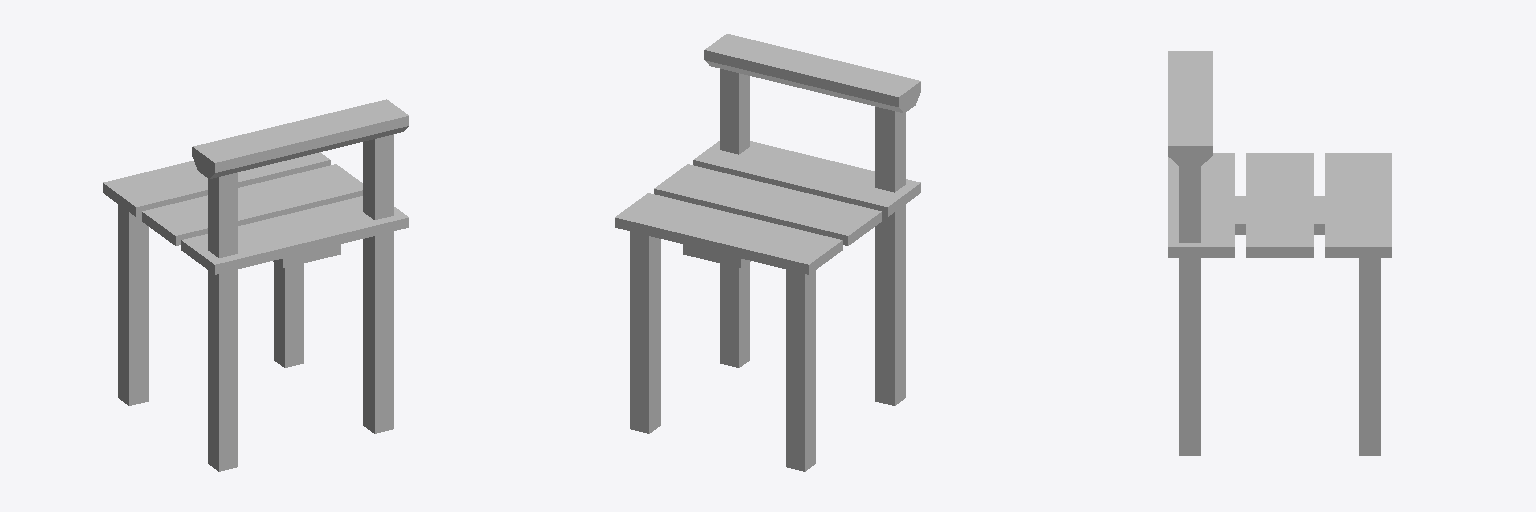
Rendered from scaffold_small_medium_railing.obj.
3 renders of one model, left to right at view 1: azimuth 30°, elevation 25°; view 2: azimuth 150°, elevation 25°; view 3: azimuth 270°, elevation 25°, orthographic.
Visible parts, largest first — view 1: scaffold_small_medium_railing_Cube.040; view 2: scaffold_small_medium_railing_Cube.040; view 3: scaffold_small_medium_railing_Cube.040.
Part boxes in pixels (bbox=[...]): scaffold_small_medium_railing_Cube.040: bbox=[103, 99, 408, 471]; scaffold_small_medium_railing_Cube.040: bbox=[615, 34, 920, 471]; scaffold_small_medium_railing_Cube.040: bbox=[1168, 51, 1391, 455].
Bounding box in the file's own units: 2 × 3.1 × 2.